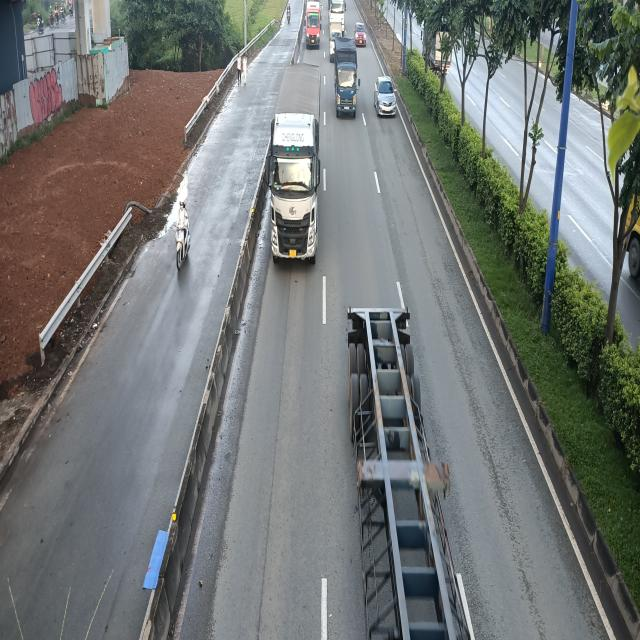car: (375, 77, 398, 118), (354, 23, 367, 48)
container: (346, 301, 471, 640)
truck: (266, 64, 324, 263), (334, 37, 360, 118), (345, 304, 348, 310)
van: (305, 0, 322, 50)
